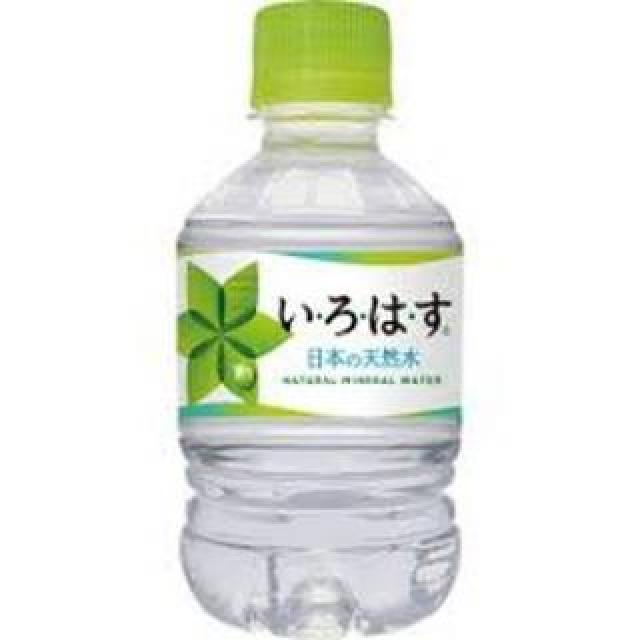Pet_Bottle: (171, 0, 467, 640)
